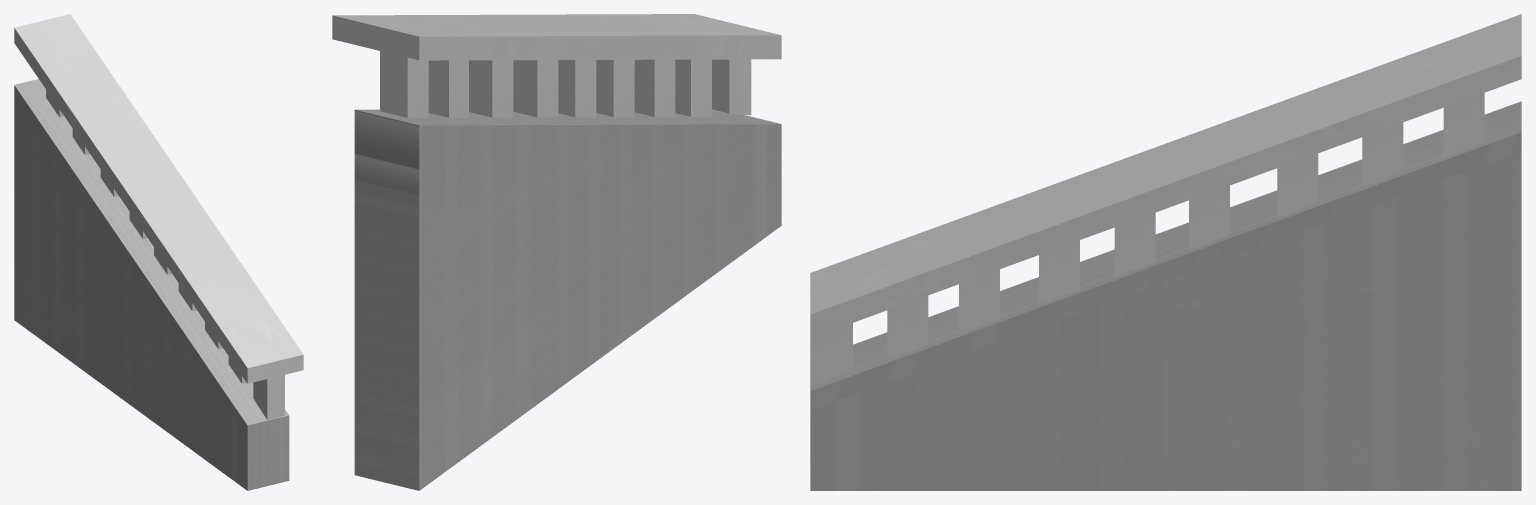
Rendered from stairsSide.fbx.
3 views of the same model, side by side, from view 1: azimuth 30°, elevation 25°; view 2: azimuth 150°, elevation 25°; view 3: azimuth 270°, elevation 25° (orthographic). The views are drawn at different scales.
Visible parts, largest first — view 1: stairSide1; view 2: stairSide1; view 3: stairSide1.
Boxes of the visible parts, x1=… form: stairSide1: x1=14, y1=14, x2=303, y2=490; stairSide1: x1=332, y1=14, x2=781, y2=490; stairSide1: x1=810, y1=14, x2=1521, y2=490.
Size of the model in its own units: 55.51 by 277 by 400.
